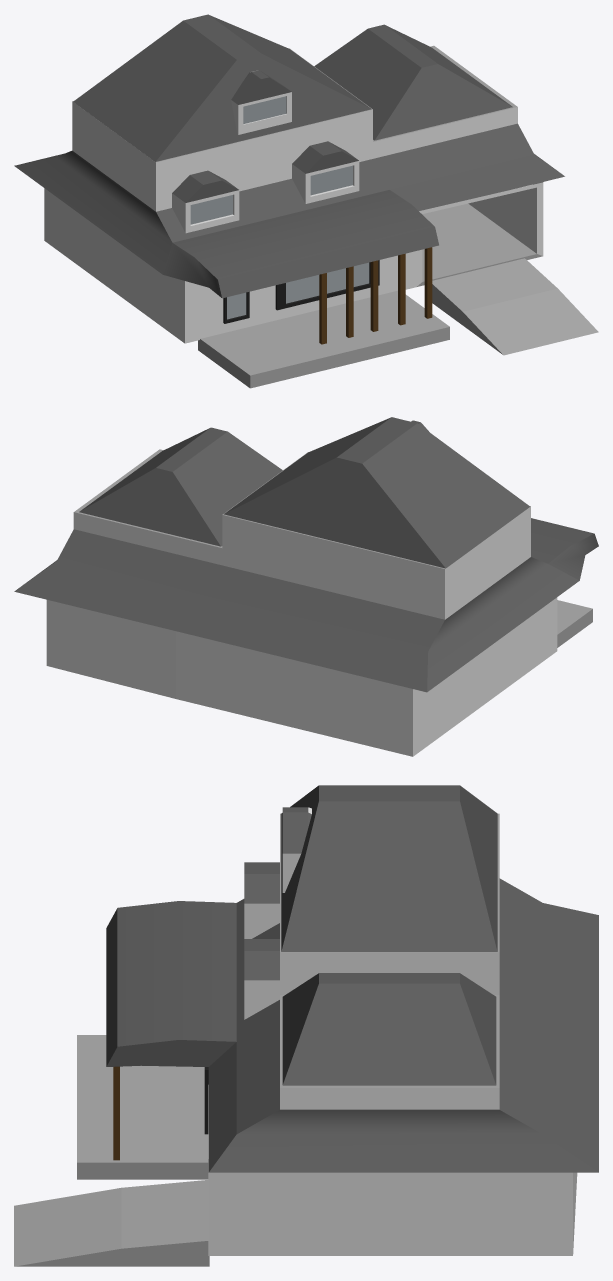
The model's file is Asset_House01.fbx.
3 views of the same model, one above another, from view 1: azimuth 30°, elevation 25°; view 2: azimuth 150°, elevation 25°; view 3: azimuth 270°, elevation 25° (orthographic). The views are drawn at different scales.
Parts seen in each view (by area): view 1: House01; view 2: House01; view 3: House01.
Boxes of the visible parts, <box> form: House01: <box>14,14,598,388</box>; House01: <box>14,417,598,756</box>; House01: <box>14,785,598,1266</box>.
Size of the model in its own units: 2639 by 1549 by 2533.
